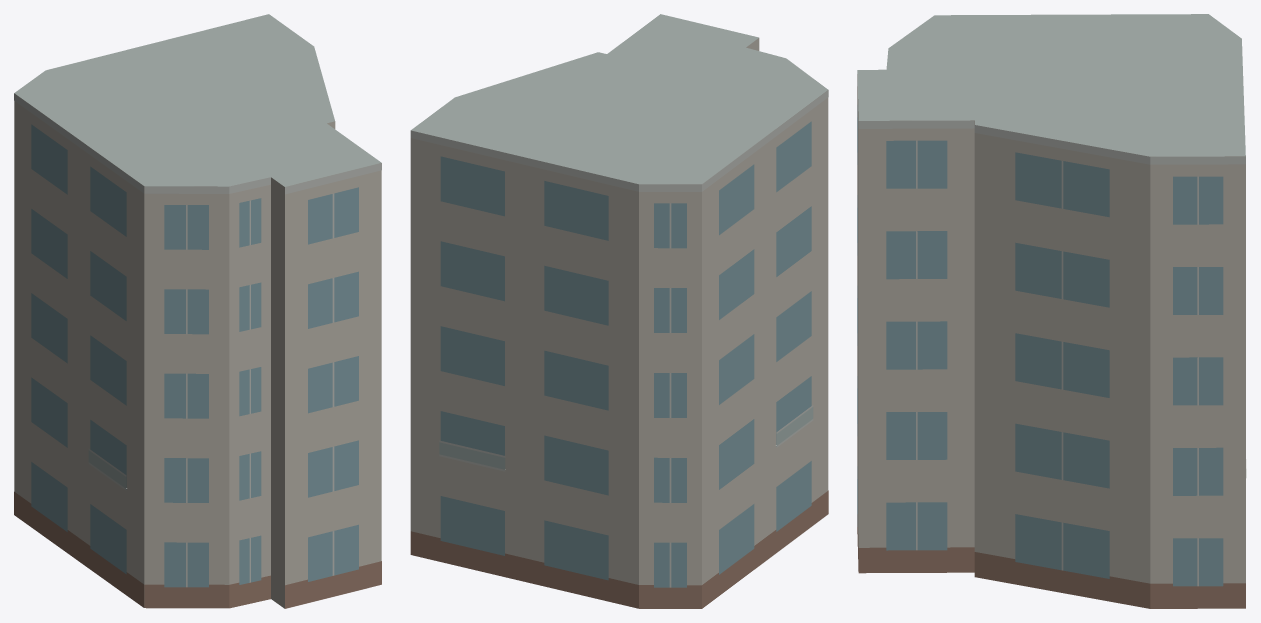
File: survey-upis-32875747.glb
The picture shows the model from 3 angles, left to right: view 1: azimuth 30°, elevation 25°; view 2: azimuth 150°, elevation 25°; view 3: azimuth 270°, elevation 25°; orthographic projection. The views are drawn at different scales.
Visible parts, largest first — view 1: survey-upis-32875747.tmp; view 2: survey-upis-32875747.tmp; view 3: survey-upis-32875747.tmp.
Part boxes in pixels (x1,y1,x2,y2): survey-upis-32875747.tmp: (14,14,381,608); survey-upis-32875747.tmp: (410,14,828,608); survey-upis-32875747.tmp: (857,14,1246,608).
Bounding box in the file's own units: 9.28 × 13.7 × 10.7.
